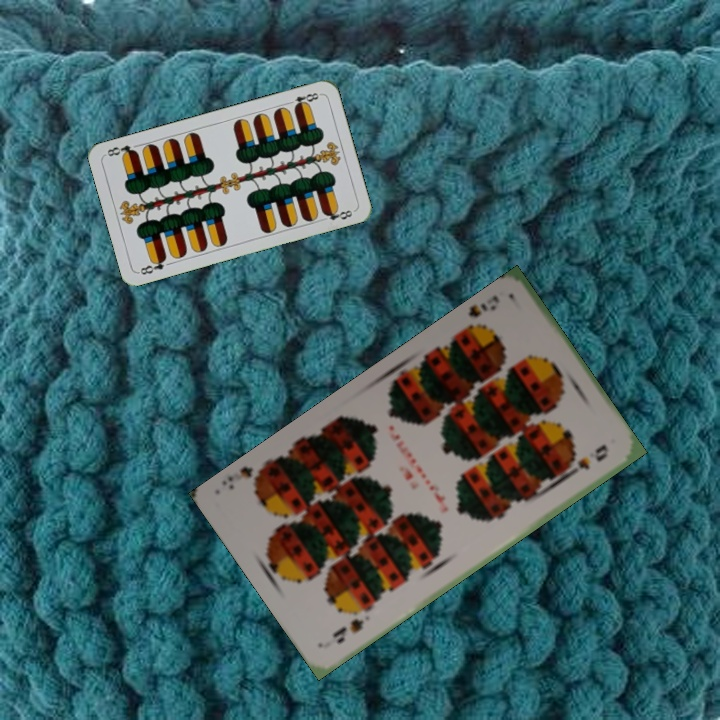E8: (283, 88, 323, 111), (135, 253, 169, 277)
S9: (459, 290, 503, 334), (328, 615, 367, 647)
